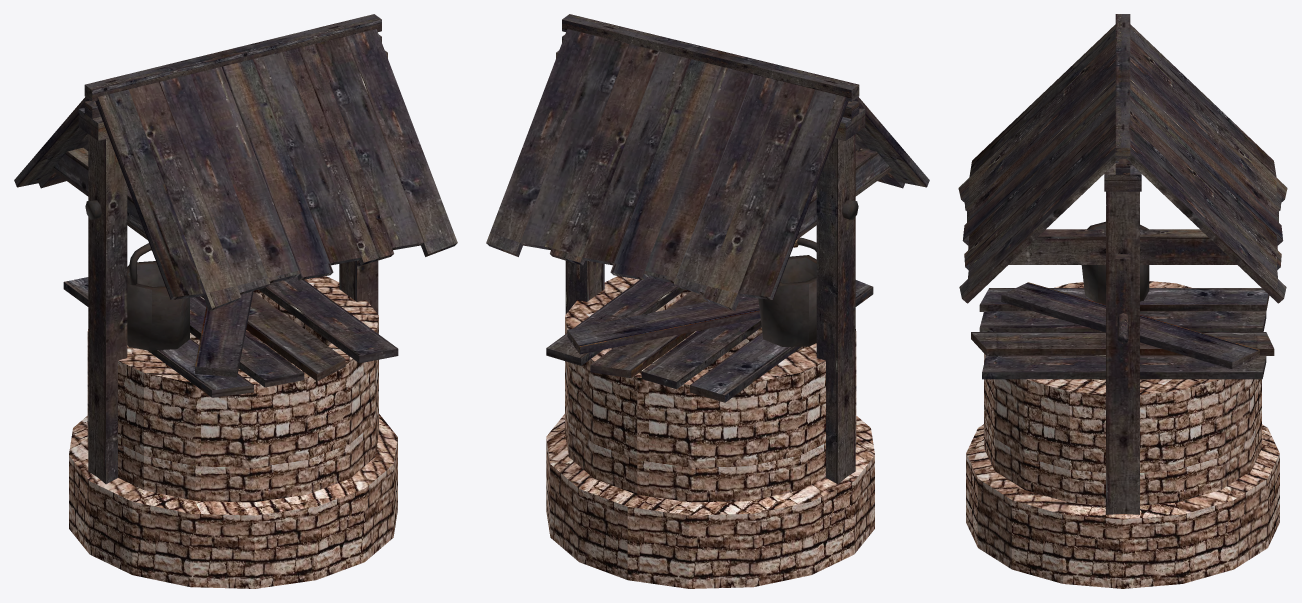
Rendered from well.glb.
The picture shows the model from 3 angles, left to right: view 1: azimuth 30°, elevation 25°; view 2: azimuth 150°, elevation 25°; view 3: azimuth 270°, elevation 25°; orthographic projection. The views are drawn at different scales.
Parts seen in each view (by area): view 1: well; view 2: well; view 3: well.
Boxes of the visible parts, <box> form: well: <box>14,14,457,588</box>; well: <box>486,14,929,588</box>; well: <box>958,14,1287,588</box>.
Size of the model in its own units: 1.89 by 2.46 by 1.66.
Materials: 5 (4 with a texture image).
